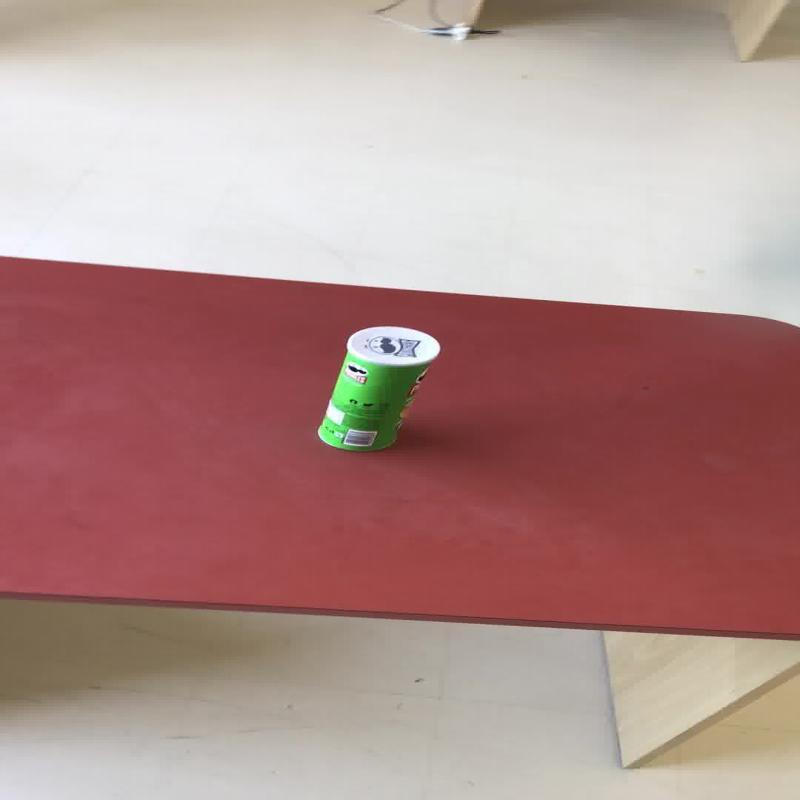pringles: (314, 324, 440, 452)
